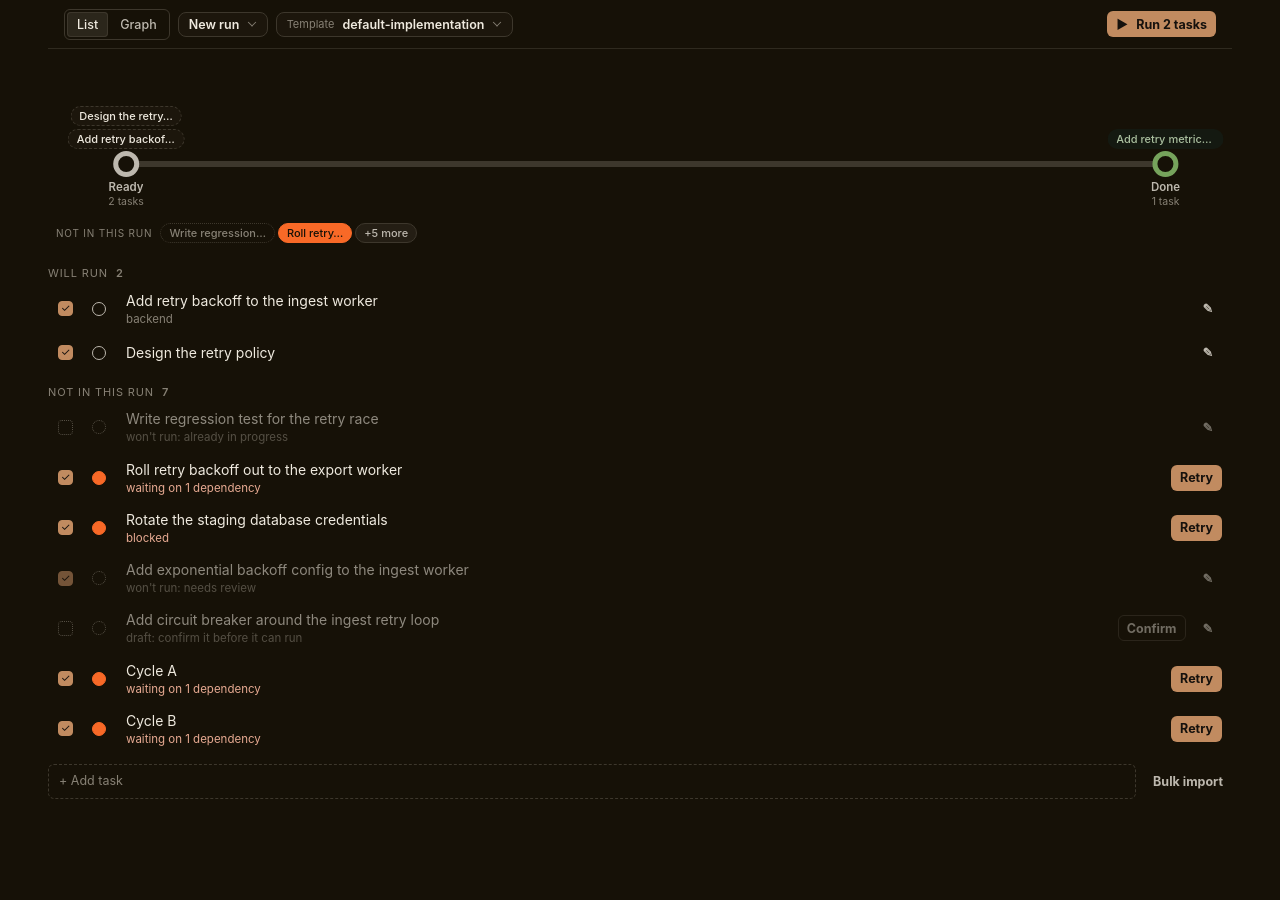
TasksTab › Plan (no runs yet) › opens the detail sheet on a row click, editable and closable
Click the button "Add retry backoff to the ingest worker" at (252, 300), box [126, 290, 1170, 310]
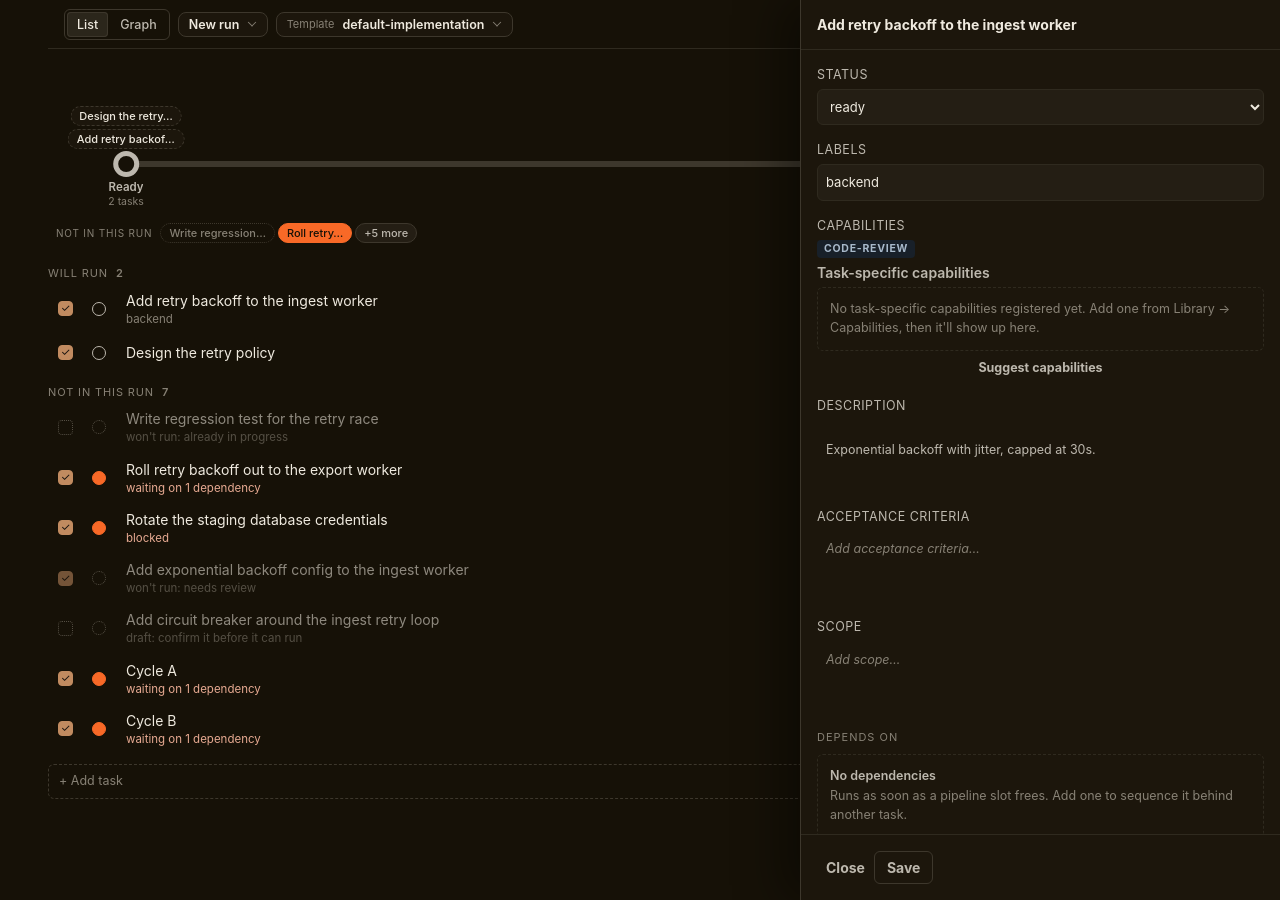
Expected: the field named "Title" holds "Add retry backoff to the ingest worker", [817, 16, 1264, 33]
Click the button "Close" at (845, 868), box [817, 851, 874, 884]
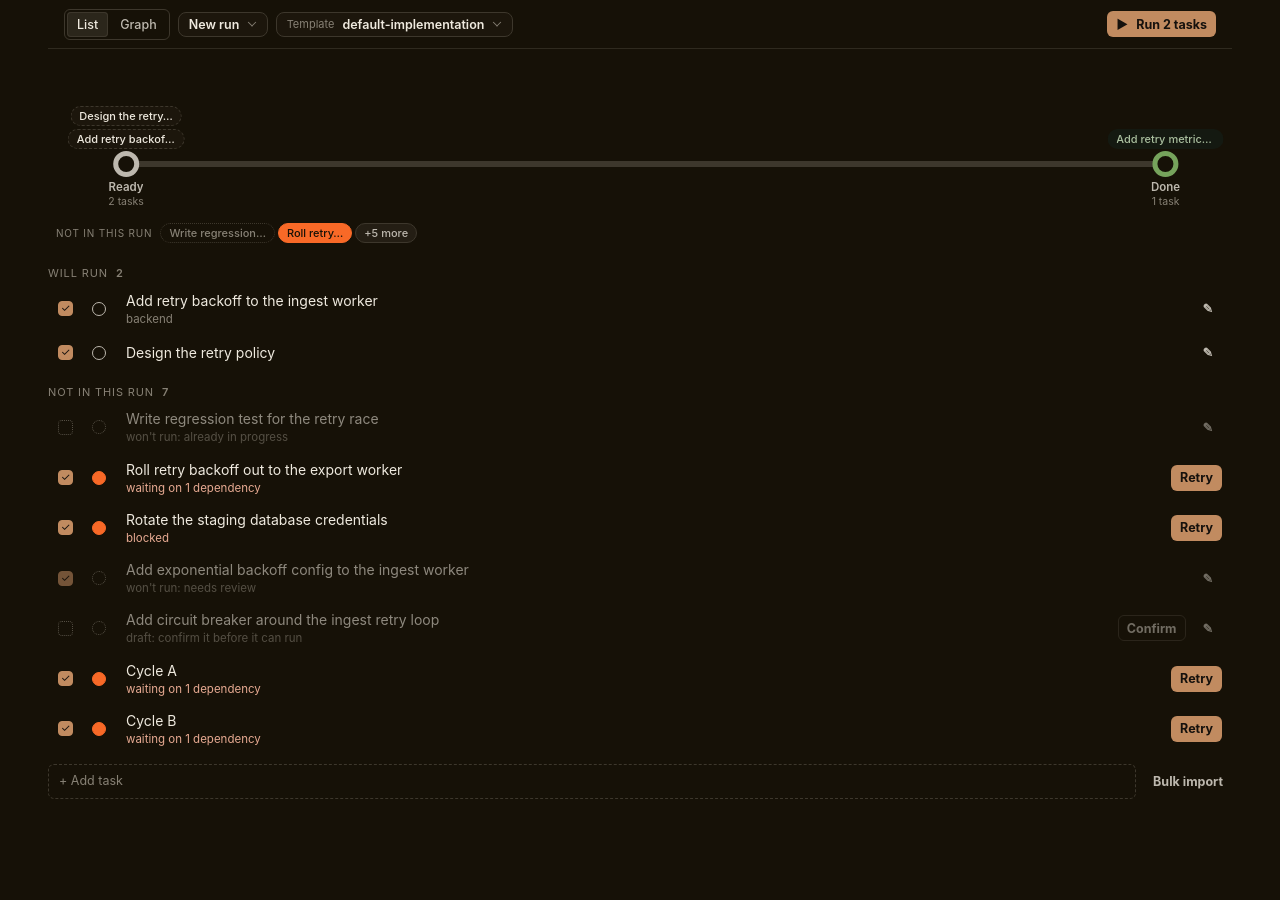
Expected: the field labelled "Title" is gone
